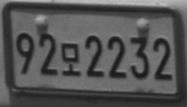2: (84, 34, 105, 77), (106, 34, 127, 77), (152, 37, 172, 81), (38, 32, 58, 75)
3: (129, 36, 149, 79)
9: (15, 31, 34, 74)
모: (60, 42, 81, 75)
